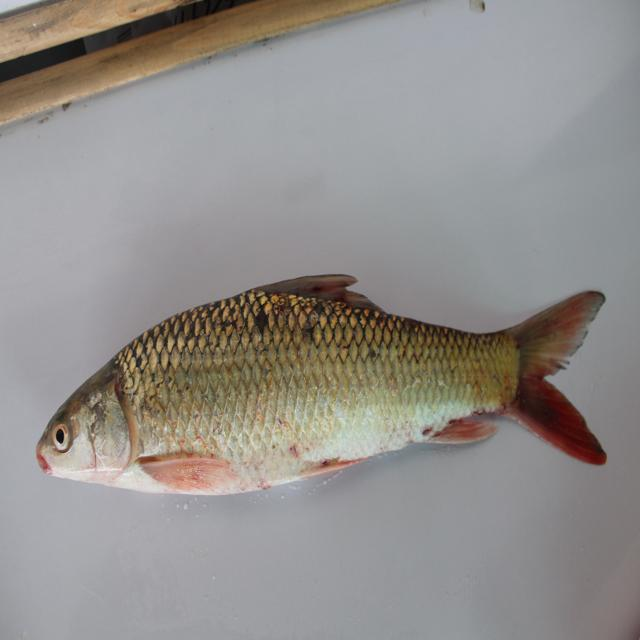Mori: (27, 228, 625, 520)
